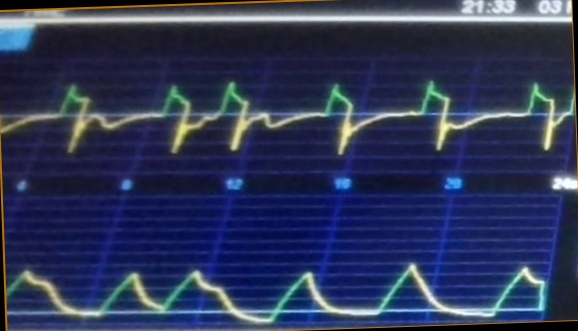Premature_cycling Flow: (1, 69, 576, 171)
Premature_cycling Volume: (9, 248, 547, 325)
